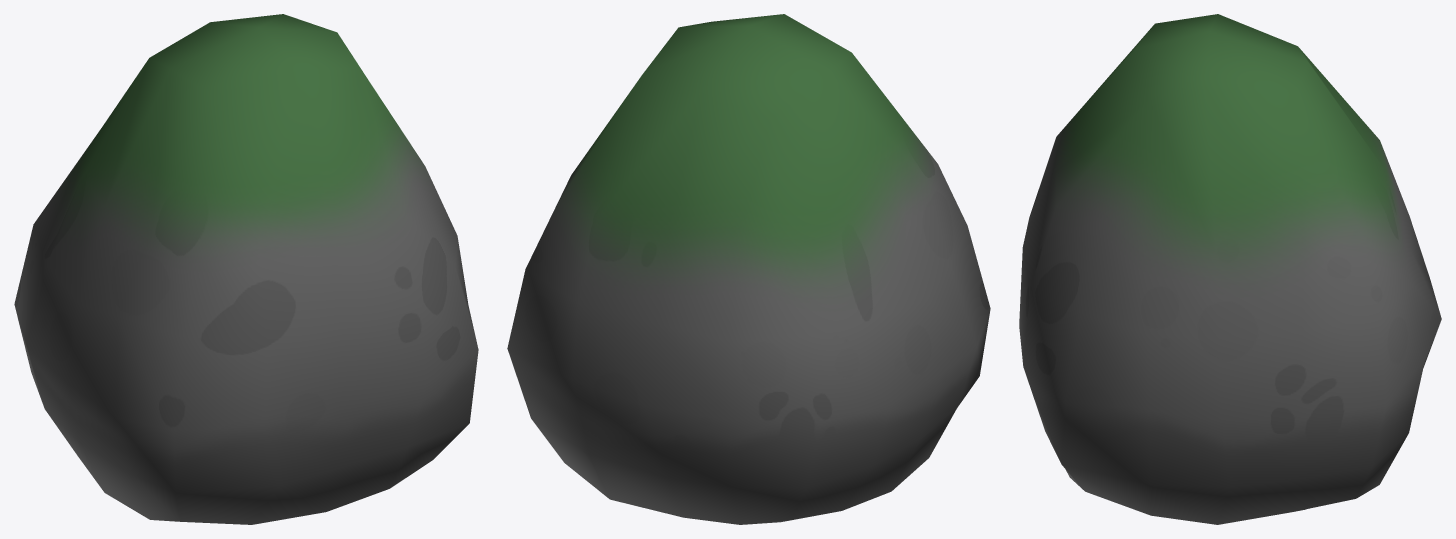
Rendered from Rock1.fbx.
3 views of the same model, side by side, from view 1: azimuth 30°, elevation 25°; view 2: azimuth 150°, elevation 25°; view 3: azimuth 270°, elevation 25° (orthographic).
Parts seen in each view (by area): view 1: Cube; view 2: Cube; view 3: Cube.
Boxes of the visible parts, <box> form: Cube: <box>14,14,478,524</box>; Cube: <box>507,14,990,524</box>; Cube: <box>1019,14,1441,524</box>.
Size of the model in its own units: 260 by 307 by 256.
Materials: 1 (1 with a texture image).
